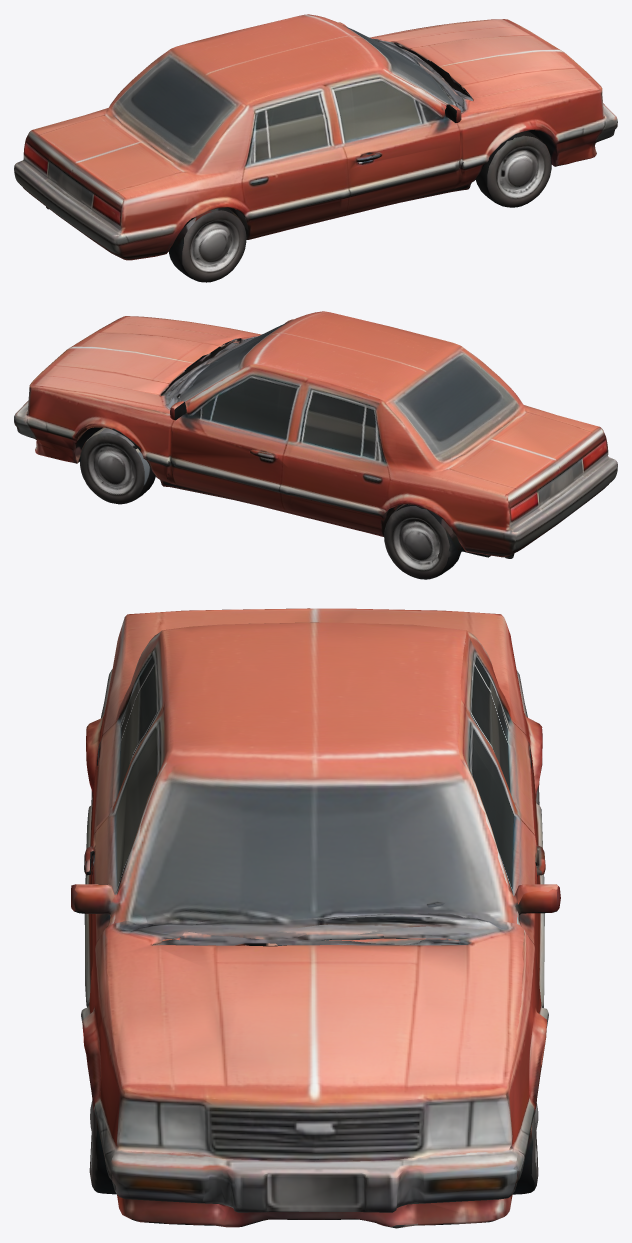
File: sloyd-sedan.glb
3 renders of one model, top to bottom at view 1: azimuth 30°, elevation 25°; view 2: azimuth 150°, elevation 25°; view 3: azimuth 270°, elevation 25°, orthographic. The views are drawn at different scales.
Visible parts, largest first — view 1: body-tex; view 2: body-tex; view 3: body-tex.
Boxes of the visible parts, x1=… form: body-tex: x1=14, y1=14, x2=617, y2=282; body-tex: x1=14, y1=311, x2=617, y2=579; body-tex: x1=71, y1=608, x2=560, y2=1228.
Bounding box in the file's own units: 15.87 × 4.7 × 6.48.
Materials: 1 (1 with a texture image).
